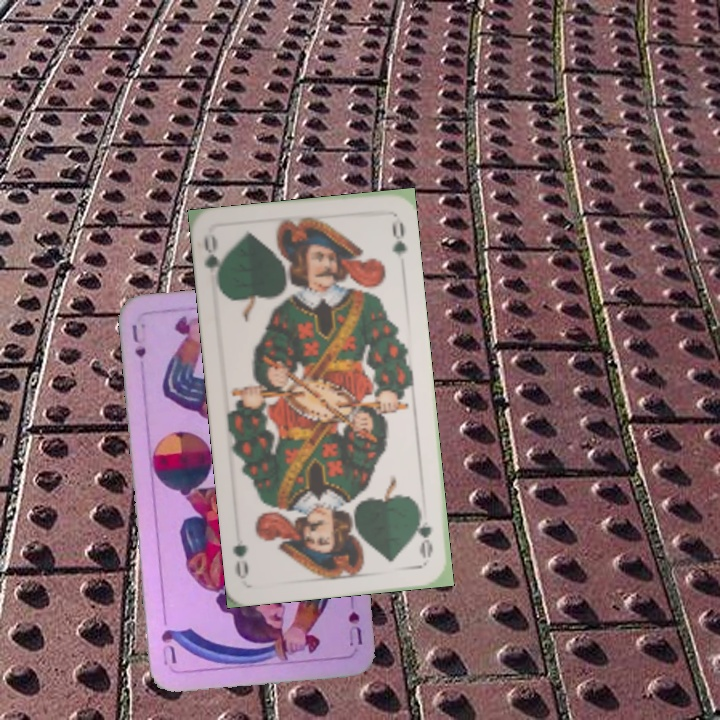GO: (200, 232, 227, 292), (413, 503, 435, 561)
SU: (127, 320, 149, 360), (344, 607, 365, 648)
